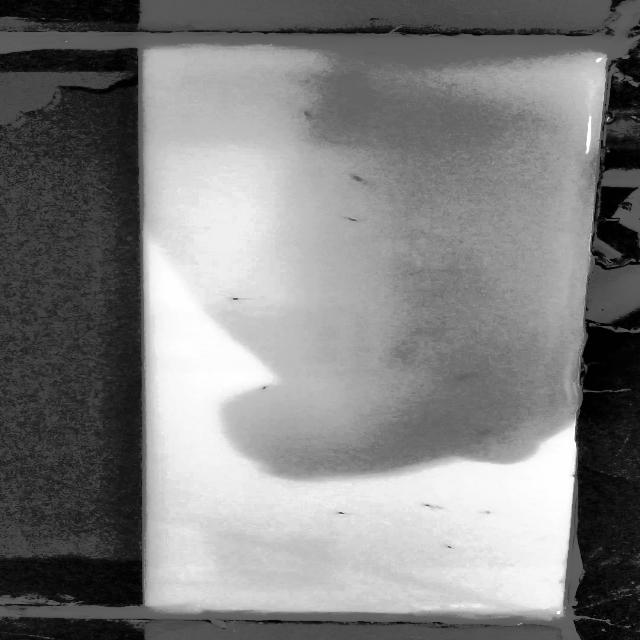shrimp: (288, 105, 321, 122), (403, 498, 440, 511), (338, 215, 369, 230), (348, 172, 373, 190), (444, 370, 475, 383), (254, 382, 281, 396), (464, 427, 499, 437), (213, 296, 244, 307), (436, 542, 467, 553), (326, 509, 363, 518), (358, 48, 387, 58)
